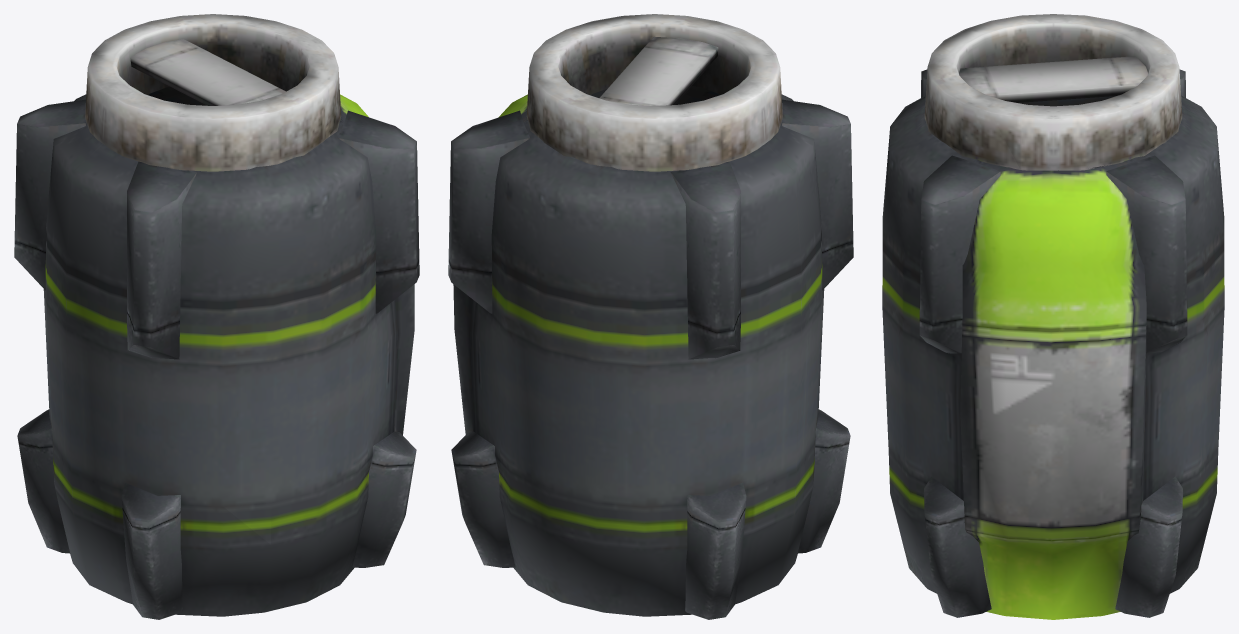
The model's file is Barrel01.FBX.
3 renders of one model, left to right at view 1: azimuth 30°, elevation 25°; view 2: azimuth 150°, elevation 25°; view 3: azimuth 270°, elevation 25°, orthographic.
Parts seen in each view (by area): view 1: Barrel01; view 2: Barrel01; view 3: Barrel01.
Boxes of the visible parts, x1=… form: Barrel01: x1=14, y1=14, x2=419, y2=619; Barrel01: x1=448, y1=14, x2=853, y2=619; Barrel01: x1=882, y1=14, x2=1224, y2=619.
Size of the model in its own units: 0.6829 by 1 by 0.6298.
